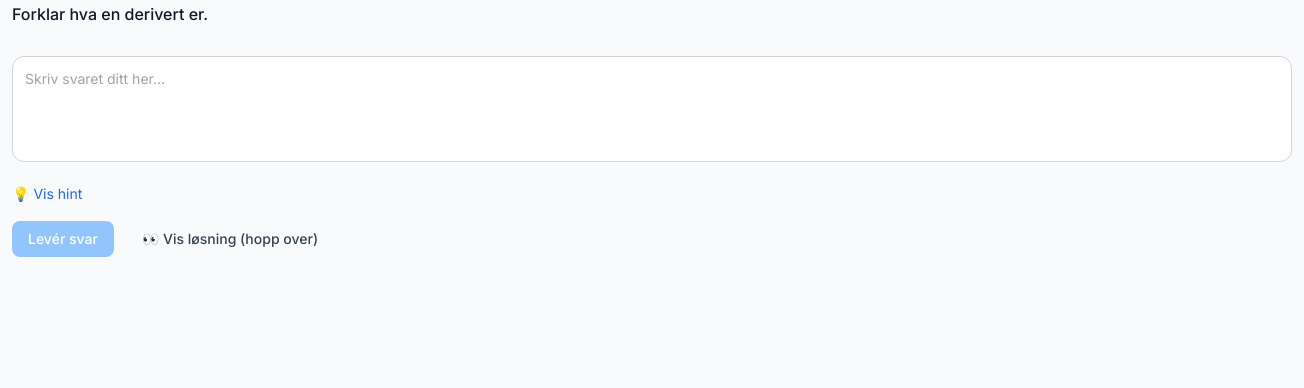
it: FreeResponse › kan vise løsning direkte
The image size is (1304, 388).
Click the button "👀 Vis løsning (hopp over)": (230, 239) [126, 221, 334, 257]
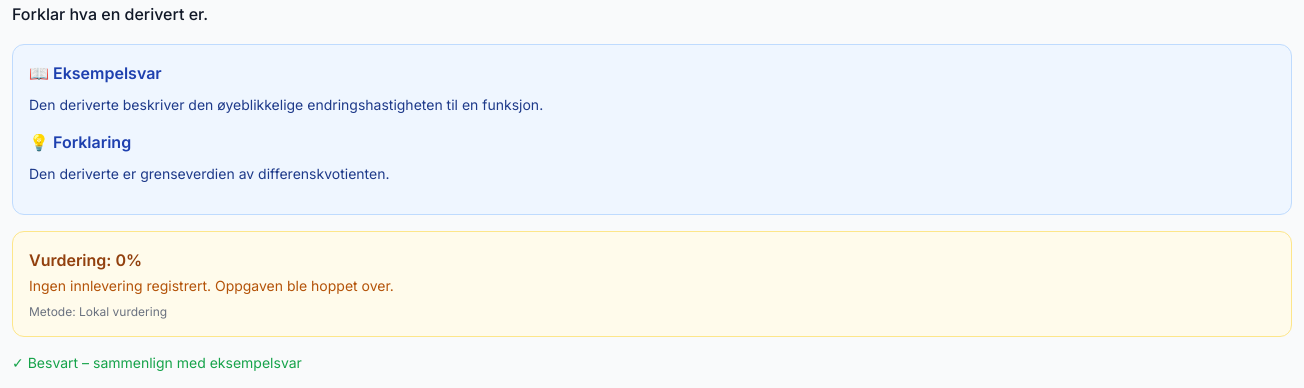
Now the text "📖 Eksempelsvar" is shown, box [29, 63, 162, 83]
